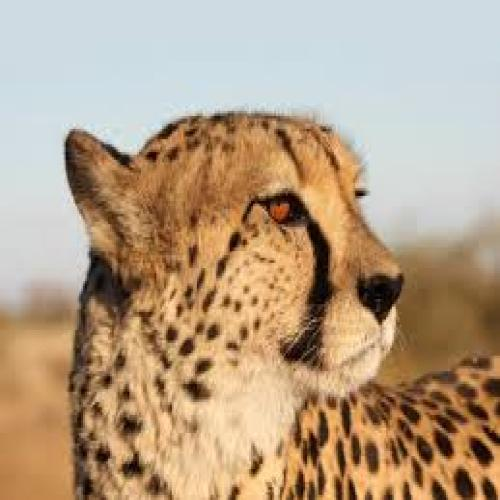cheetah-endangered: (62, 92, 500, 500)
